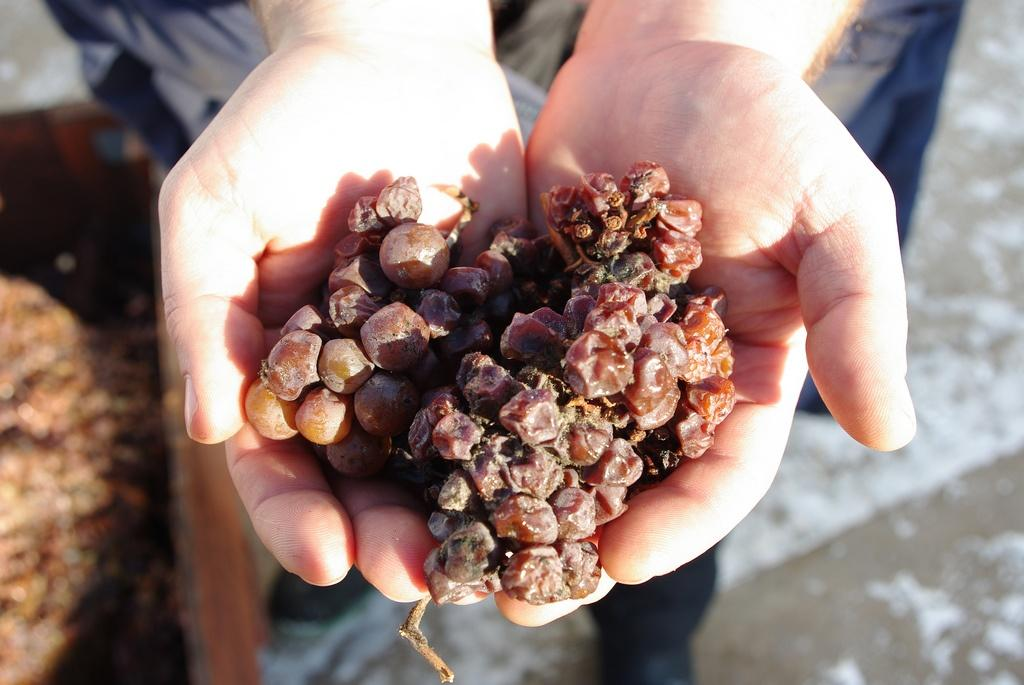Grape Rotten: (247, 162, 735, 605)
